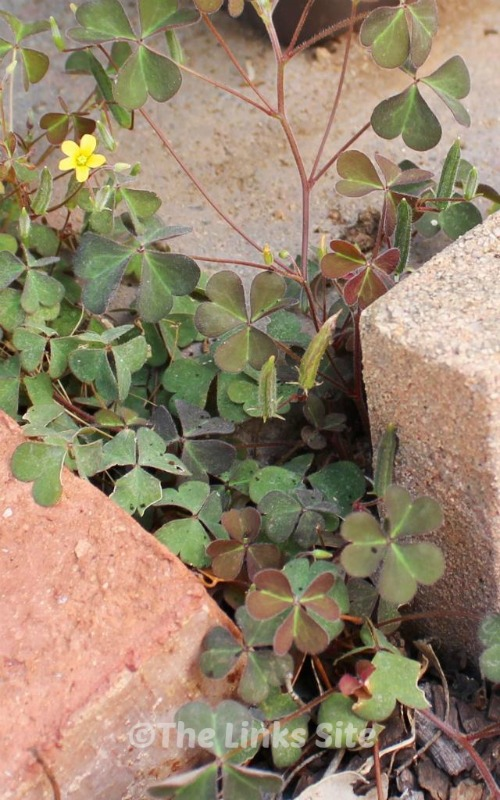oxalis: (2, 180, 441, 659)
